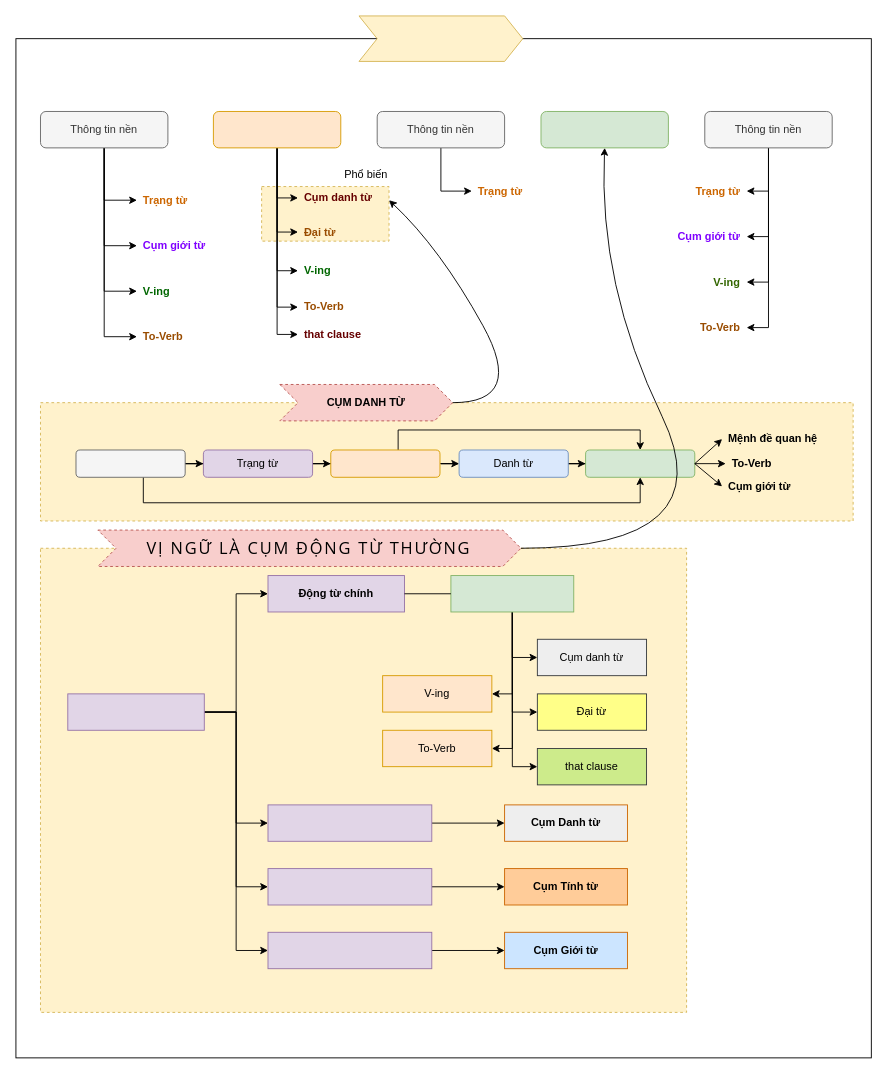
The diagram is 887 pixels wide and 1074 high, and some of its shapes have lost their labels. The centre of each missing label's shape, as x and y in pixels:
"Chủ ngữ" goes at pixel 276 129.
"CẤU TRÚC CÂU" goes at pixel 440 38.
"DANH TỪ CHÍNH" goes at pixel 640 463.
"Trợ Động từ" goes at pixel 135 711.
"Tân ngữ" goes at pixel 512 593.
"Tính từ" goes at pixel 385 463.
"Từ hạn định" goes at pixel 130 463.
"Vị ngữ" goes at pixel 604 129.
"Động từ nối (linking verb)" goes at pixel 349 886.
"Động từ nối to-be" goes at pixel 349 950.
"Động từ to-be, to become" goes at pixel 349 822.
